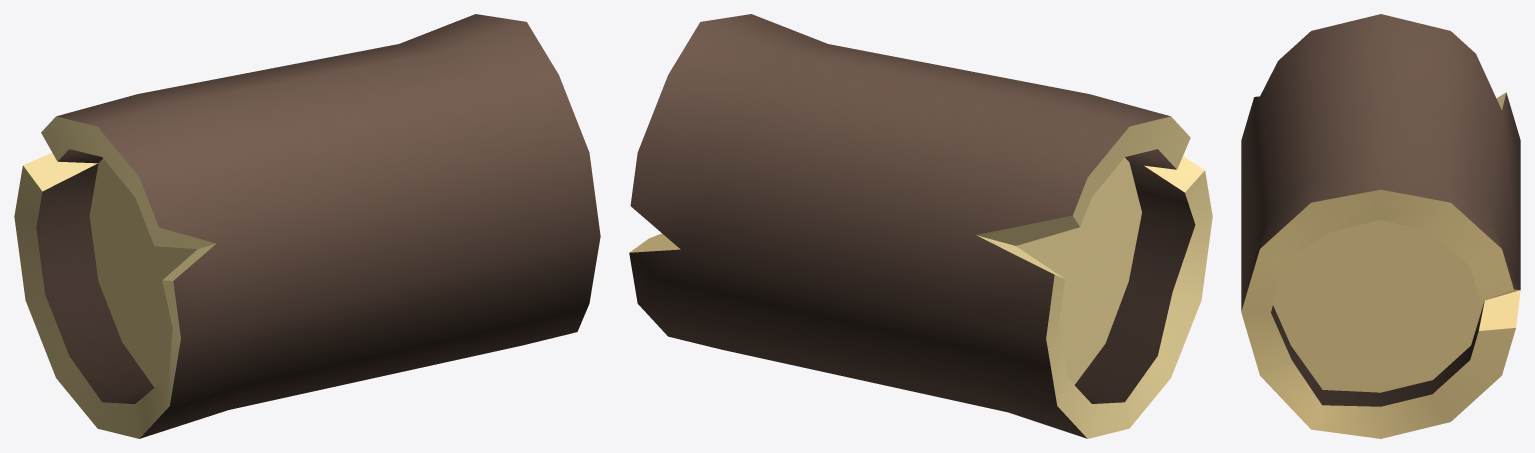
File: Log_2.fbx
3 renders of one model, left to right at view 1: azimuth 30°, elevation 25°; view 2: azimuth 150°, elevation 25°; view 3: azimuth 270°, elevation 25°, orthographic. The views are drawn at different scales.
Parts seen in each view (by area): view 1: Log_2; view 2: Log_2; view 3: Log_2.
Part boxes in pixels (x1=…): Log_2: x1=14, y1=14, x2=600, y2=438; Log_2: x1=629, y1=14, x2=1212, y2=438; Log_2: x1=1241, y1=14, x2=1520, y2=438.
Bounding box in the file's own units: 0.7837 × 0.7899 × 1.19.
